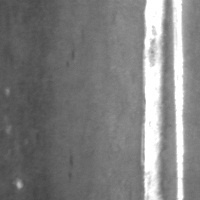inclusion: (64, 152, 77, 181)
scratches: (139, 1, 167, 200), (171, 1, 186, 200)
